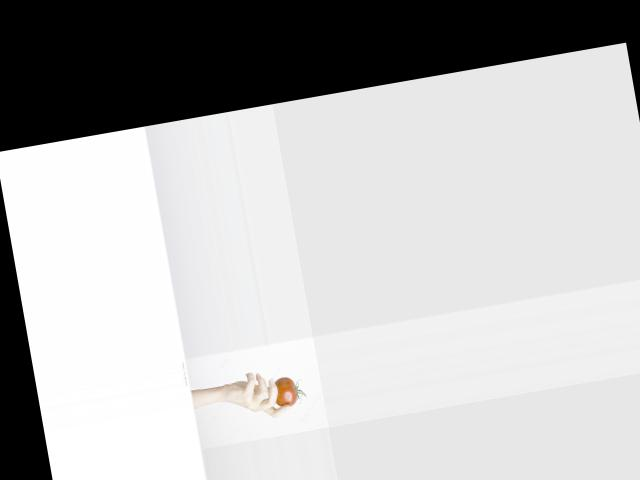tomato: (272, 373, 307, 407)
